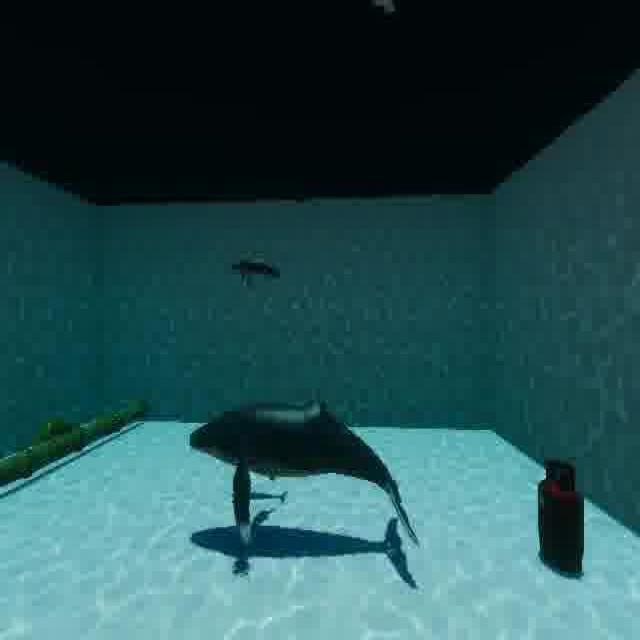Cylinder: (529, 449, 599, 589)
Pipe: (0, 390, 163, 491)
Whale: (183, 387, 427, 558), (222, 243, 285, 299)
